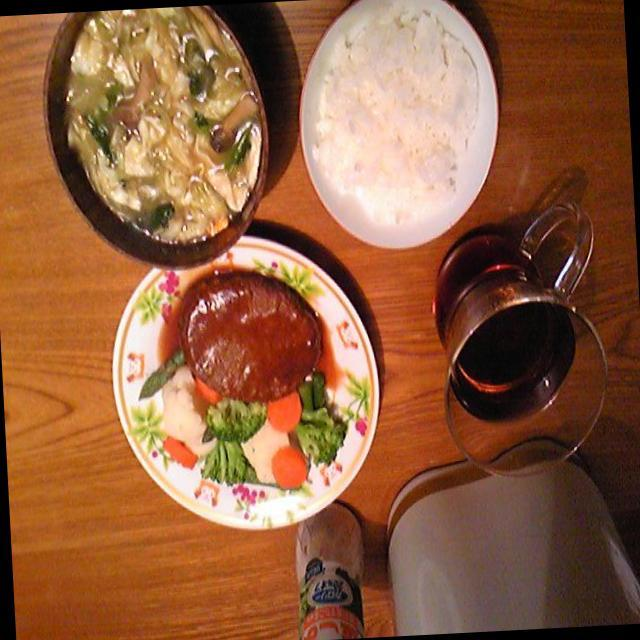Rice: (308, 12, 496, 236)
